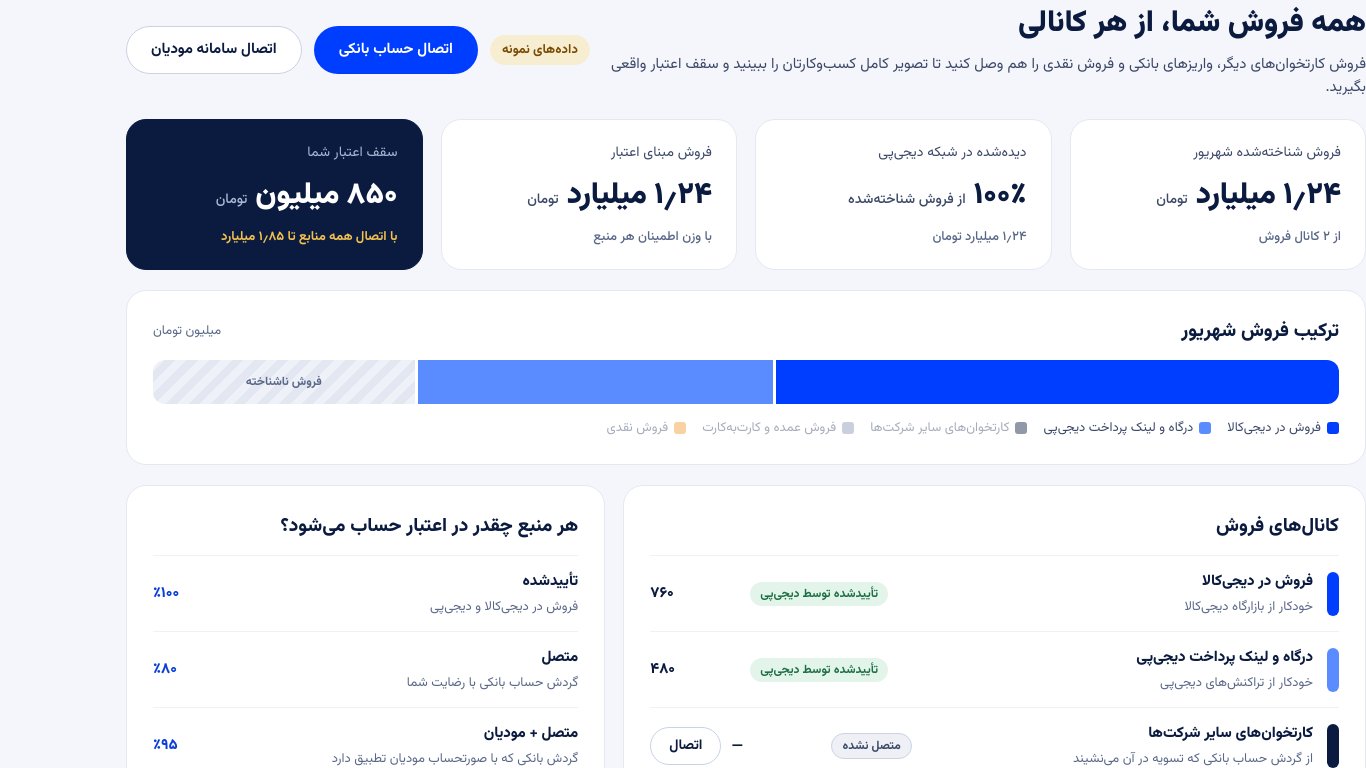
raises the credit limit after connecting a bank account
Expected: the text "۸۵۰ میلیون" is shown, [255,172,398,219]
Click the button "اتصال حساب بانکی" at {"x": 396, "y": 50}, box [314,26,478,74]
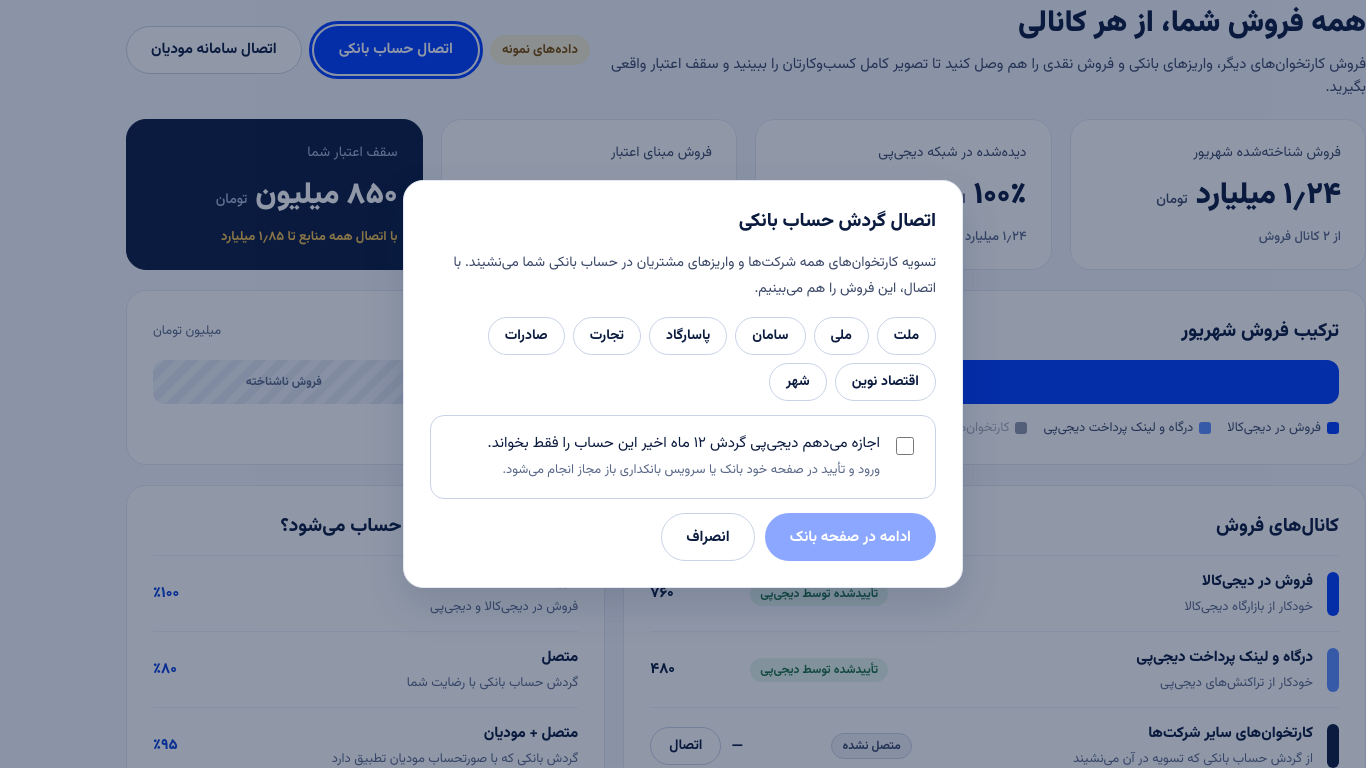
Click the radio button labelled "ملت" at {"x": 906, "y": 336}, box [877,317,936,355]
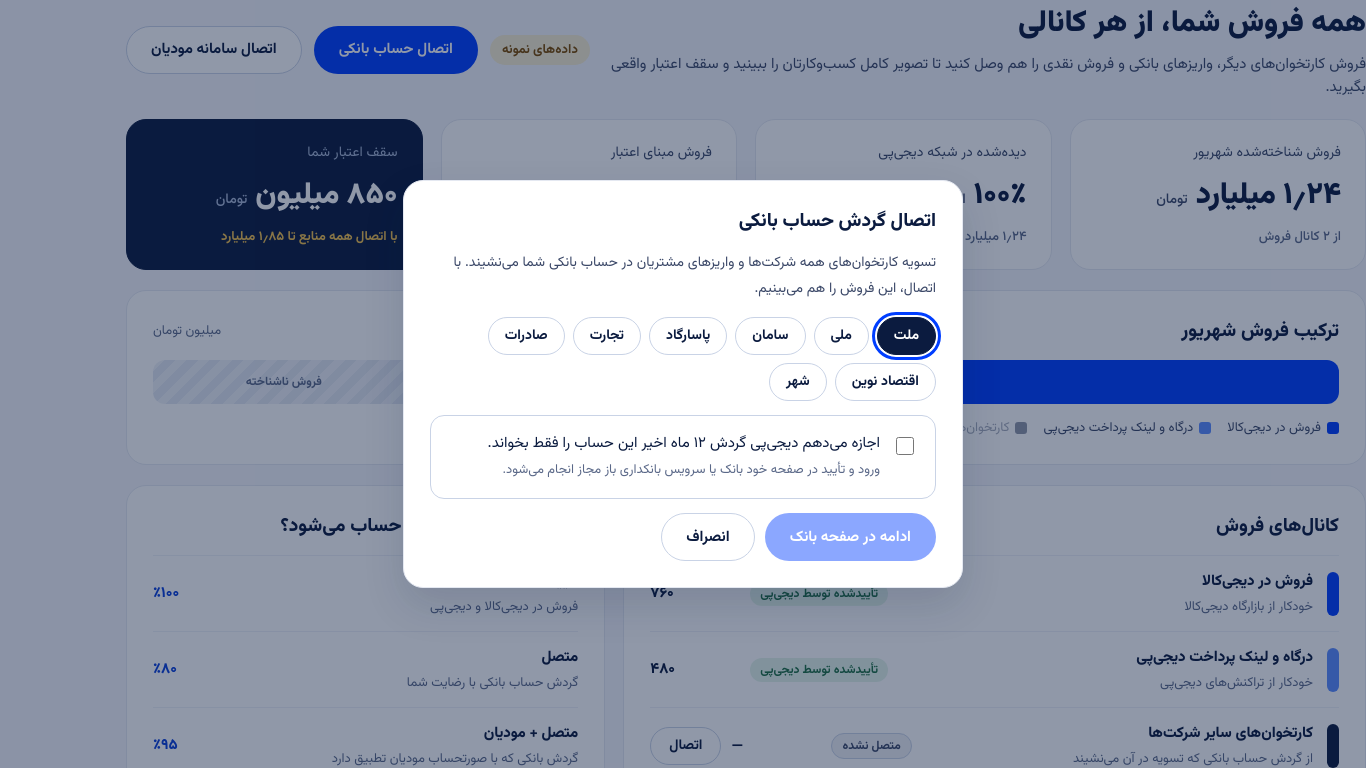
Click the checkbox at {"x": 905, "y": 446}, box [896,437,914,455]
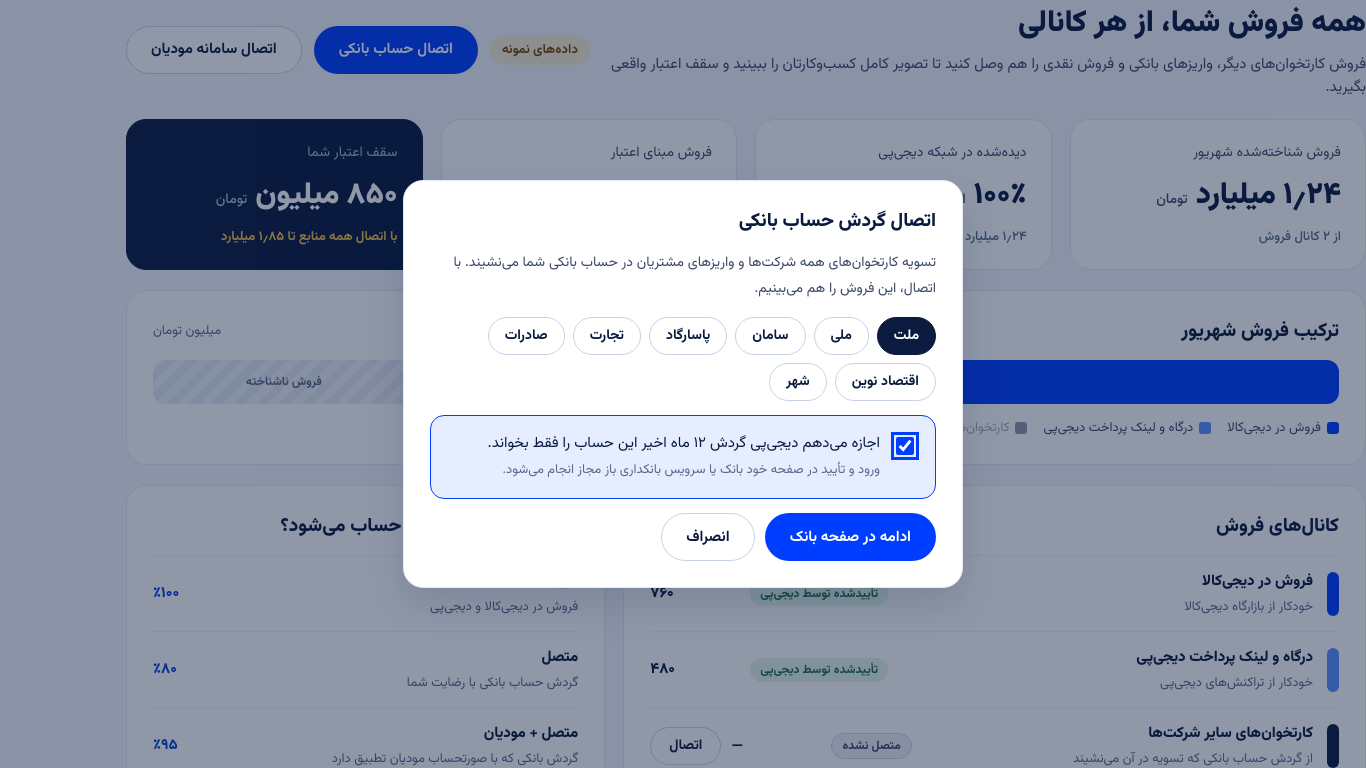
Click the button "ادامه در صفحه بانک" at {"x": 850, "y": 537}, box [765,513,936,561]
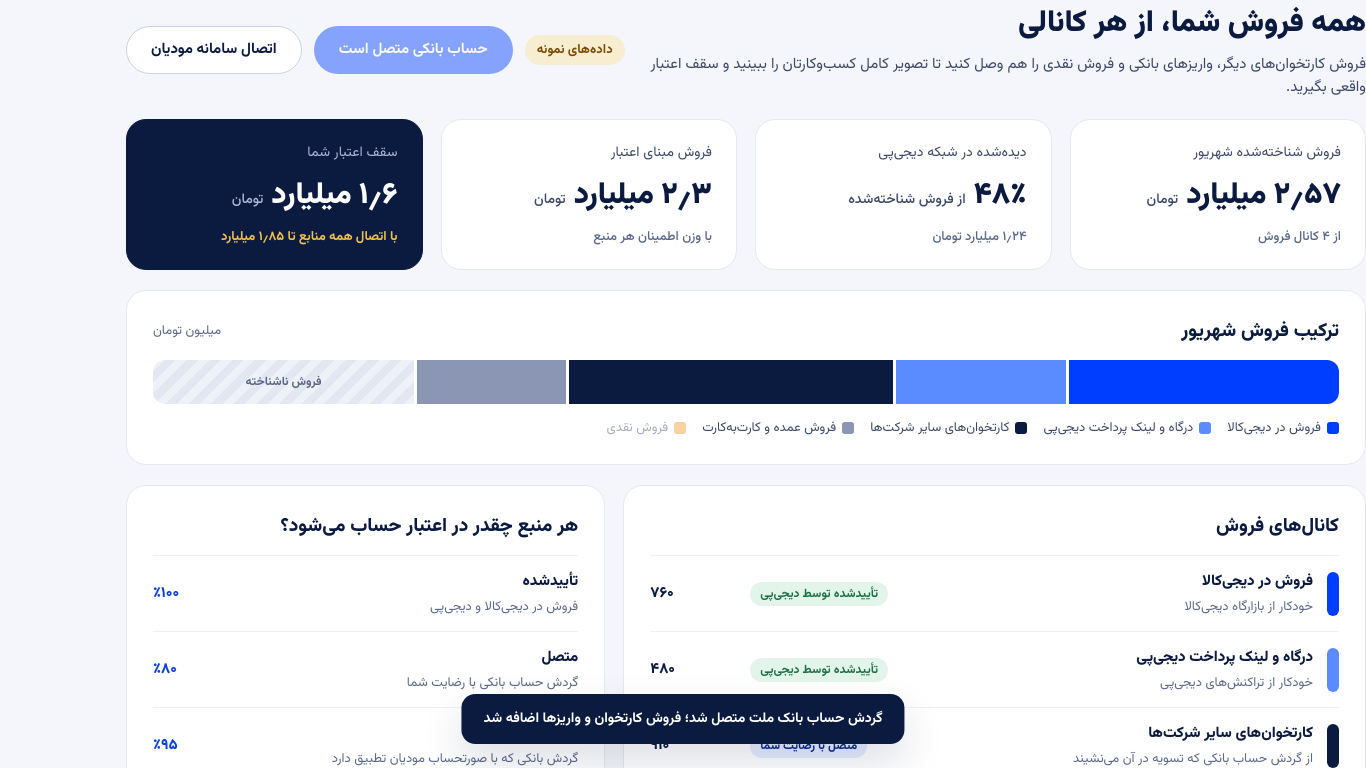
Now the text "۱٫۶ میلیارد" is shown, box [271,172,398,219]
